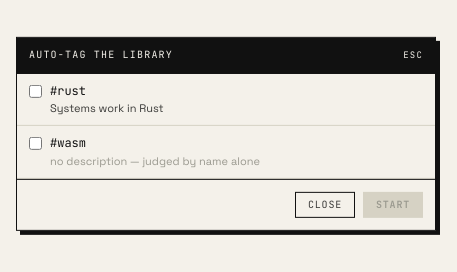
AutoTagModal › a run too small to cost a cent says so
The image size is (457, 272).
Step 1. Click the checkbox labelled "#rust Systems work in Rust" → {"x": 36, "y": 91}, box [29,84,42,97]
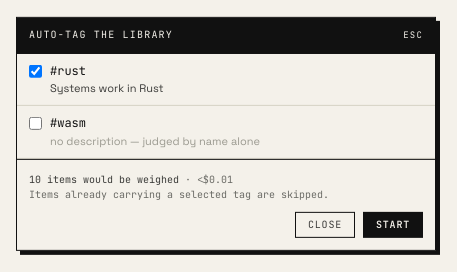
Now the text "<$0.01" is shown, box [197,173,233,186]
